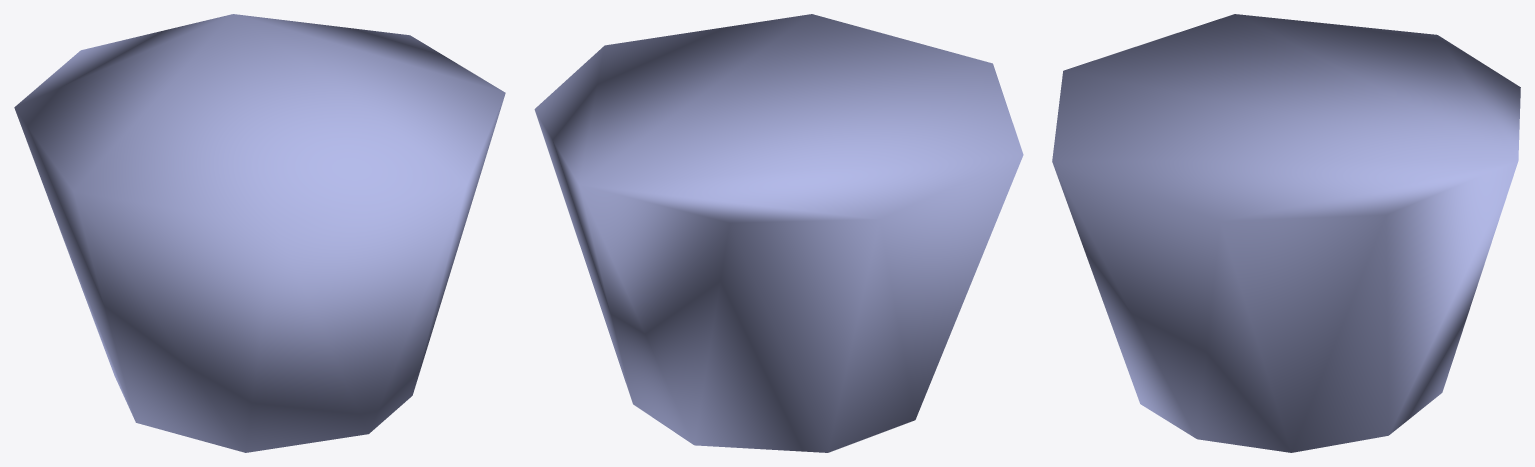
The model's file is Pot.fbx.
The picture shows the model from 3 angles, left to right: view 1: azimuth 30°, elevation 25°; view 2: azimuth 150°, elevation 25°; view 3: azimuth 270°, elevation 25°; orthographic projection.
Parts seen in each view (by area): view 1: Pot; view 2: Pot; view 3: Pot.
Boxes of the visible parts, x1,y1,x2,y2 form: Pot: (14, 14, 505, 452); Pot: (534, 14, 1023, 452); Pot: (1052, 14, 1520, 452).
Size of the model in its own units: 0.4999 by 0.3035 by 0.477.
